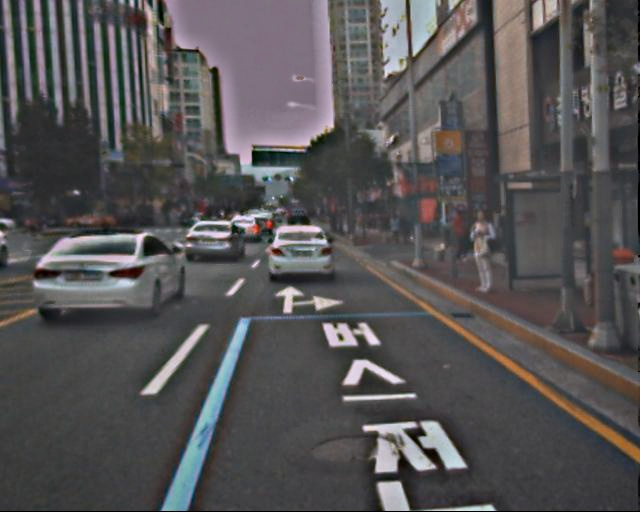person: (464, 208, 500, 296), (448, 207, 472, 266), (400, 206, 415, 243), (388, 210, 402, 243)
